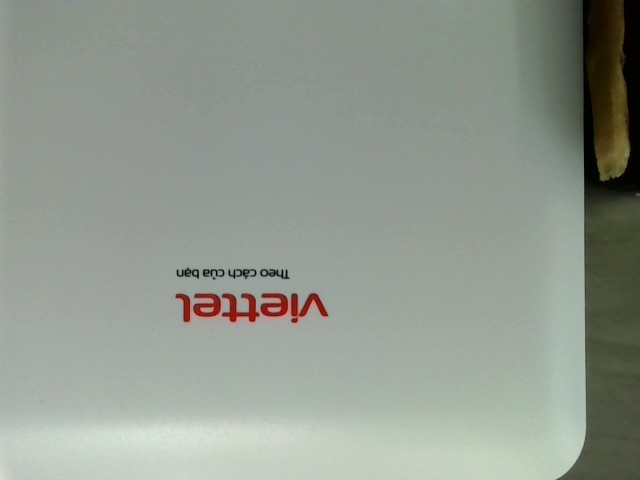AY_Viettel: (172, 259, 334, 333)
